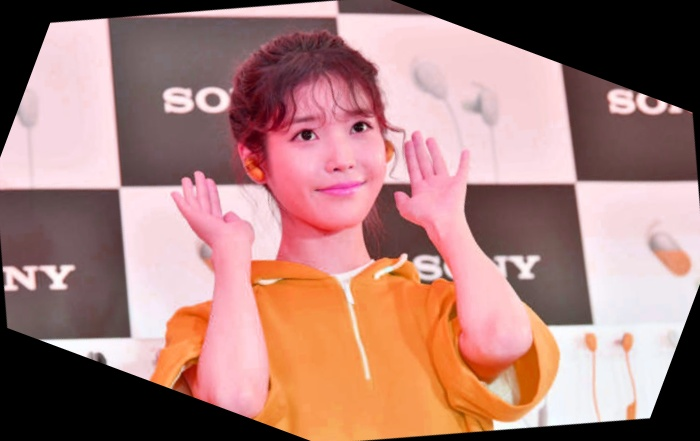earphone: (224, 131, 286, 197)
